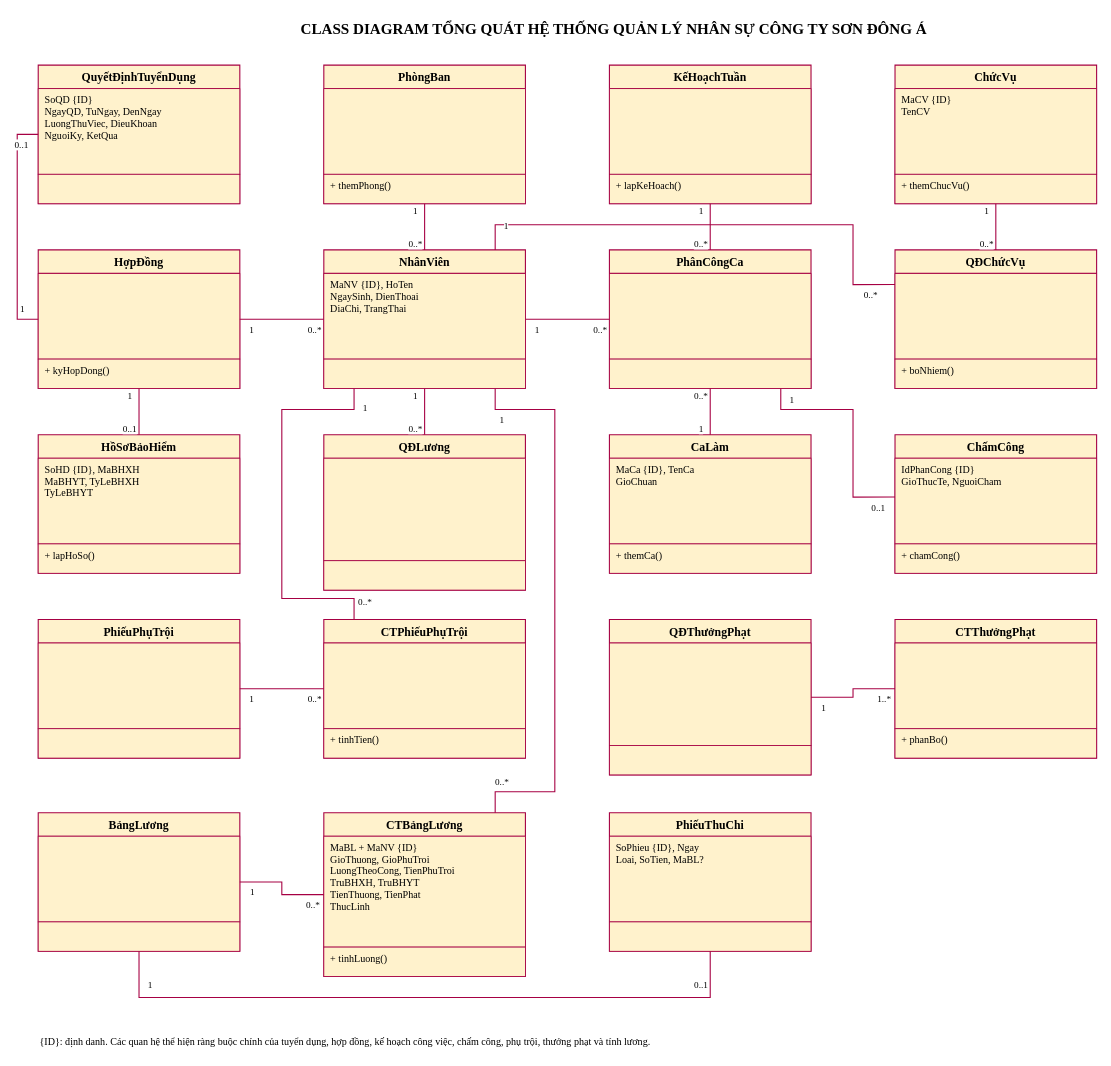
This 1111x1066 diagram has some shape labels left out. Here are the shapes that lost their labels. From the top down, the centre of each, then its label:
At pixel 424 131: "MaPB {ID} TenPB".
At pixel 710 131: "MaKH {ID} NgayDauTuan, NguoiLap".
At pixel 138 188: "+ danhGia()".
At pixel 138 316: "SoHD {ID}, LoaiHD NgayKy, TuNgay, DenNgay DieuKhoan, NguoiKy".
At pixel 710 316: "Id {ID}, Ngay GioPhuTroiDuKien HinhThuc".
At pixel 995 316: "SoQD {ID}, NgayHieuLuc PhuCapChucVu, NguoiKy".
At pixel 424 373: "+ tiepNhan()".
At pixel 710 373: "+ phanCong()".
At pixel 424 509: "SoQD {ID}, NgayHieuLuc LuongCoBan, PhuCapLuong PhuCapDocHai, NguoiKy".
At pixel 424 575: "+ doiLuong()".
At pixel 138 685: "SoPhieu {ID}, Ngay HinhThuc, SoGio NguoiLap".
At pixel 424 685: "SoPhieu + MaNV {ID} SoGio".
At pixel 710 694: "SoQD {ID}, Loai, NgayQD KyApDung, NoiDung, SoTien HinhThuc, NguoiKy".
At pixel 995 685: "SoQD + MaNV {ID} SoTien, MaBL?".
At pixel 138 743: "+ ghiNhan()".
At pixel 710 760: "+ lapQuyetDinh()".
At pixel 138 878: "MaBL {ID}, Thang, Nam GioChuan, NgayLap".
At pixel 138 936: "+ chotLuong()".
At pixel 710 936: "+ thuChi()".
